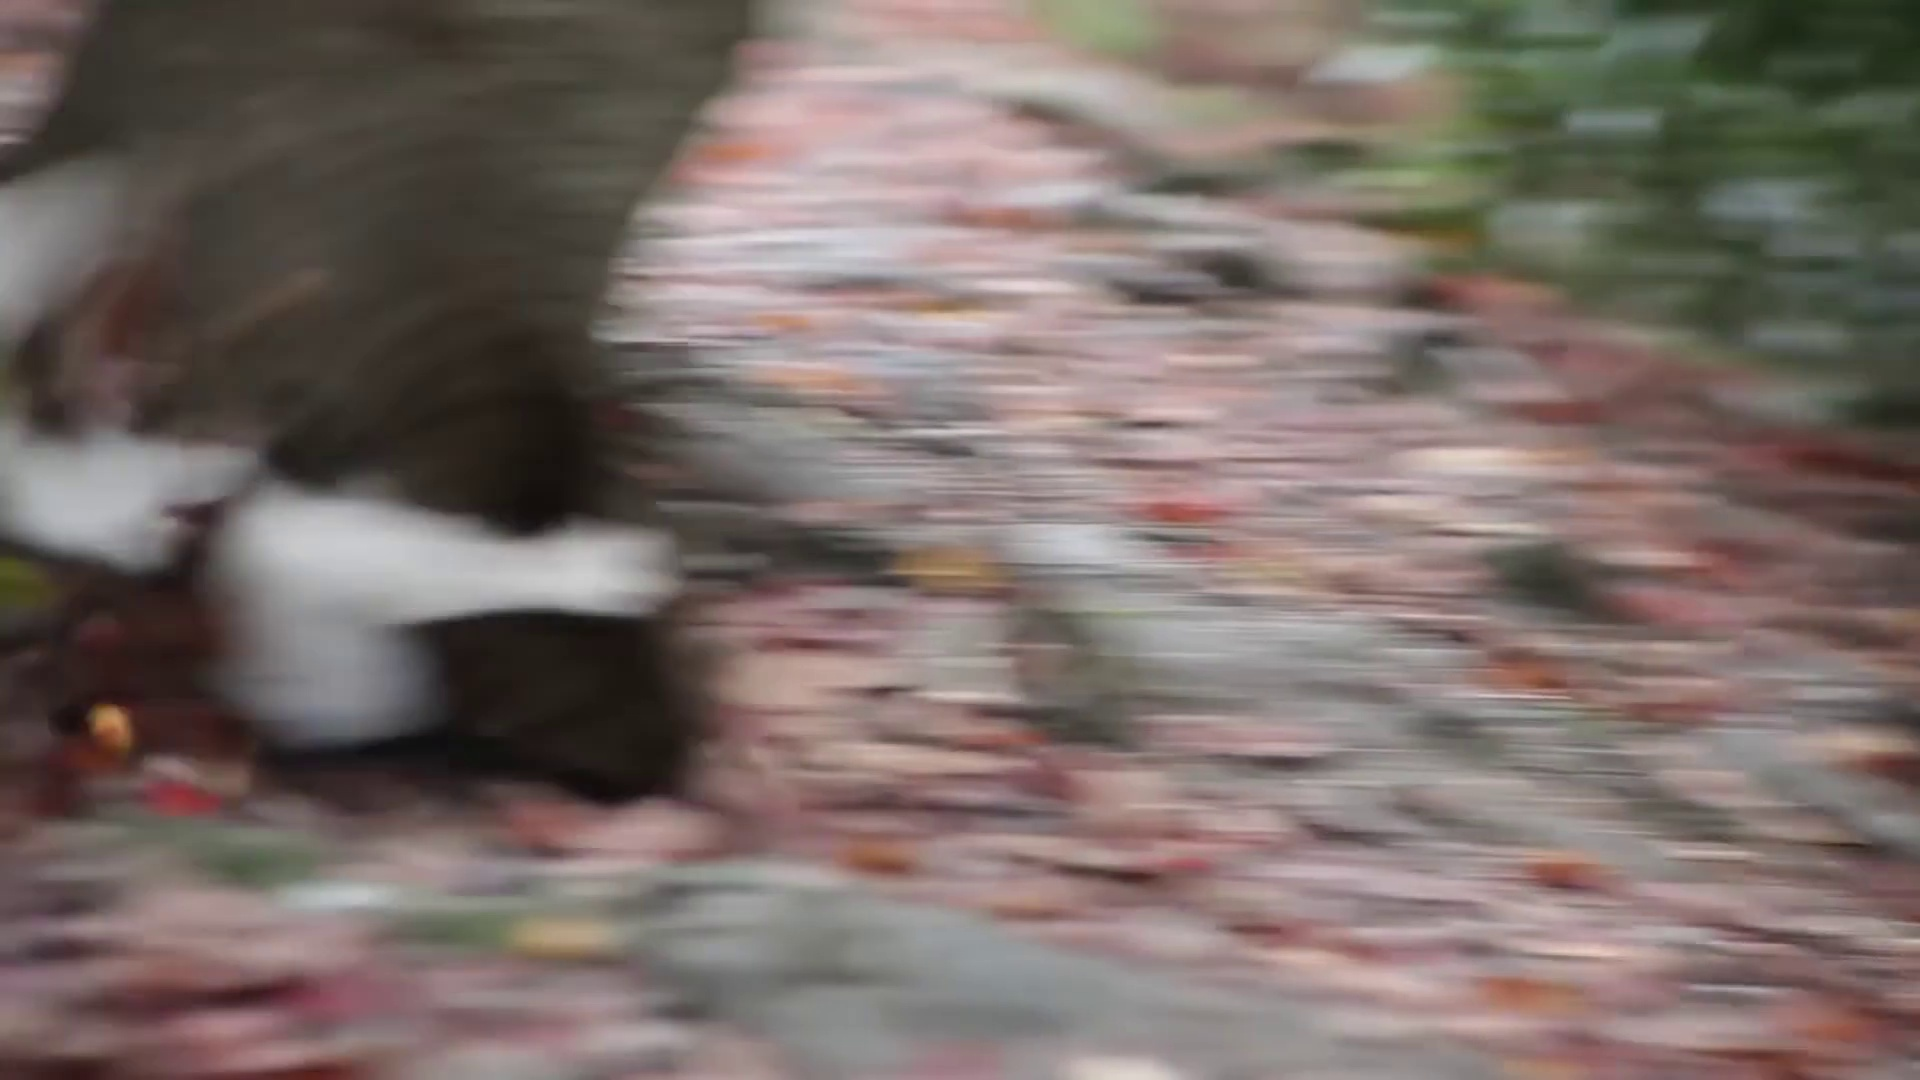black-white: (167, 336, 716, 808)
pure black: (3, 116, 273, 593)
